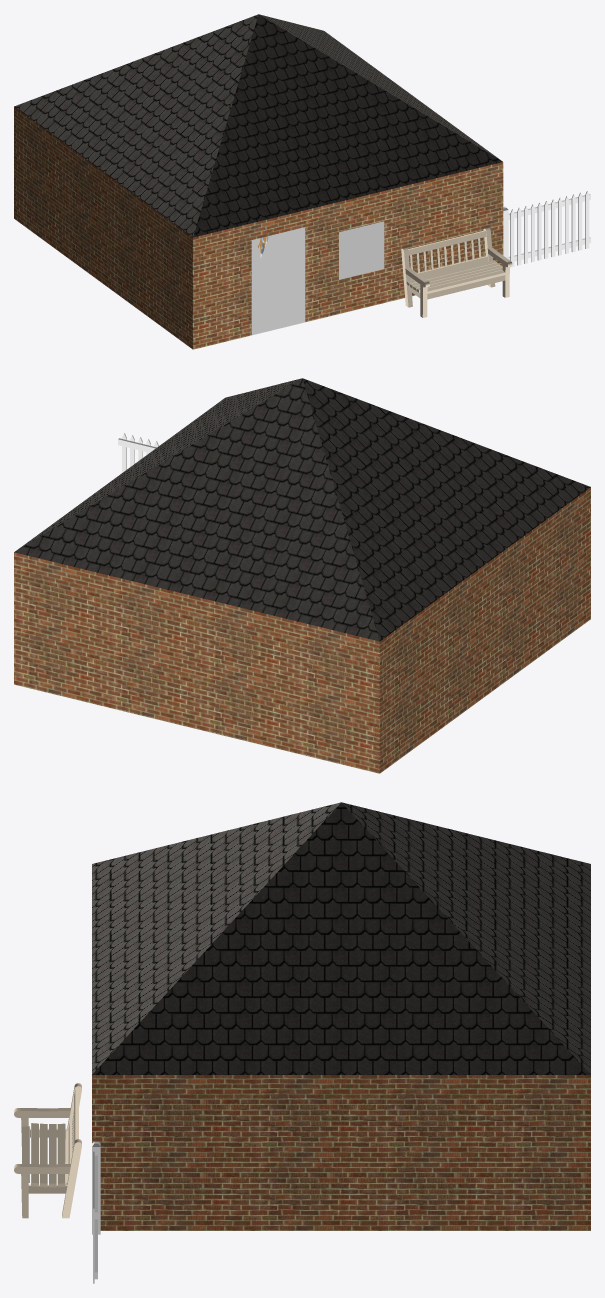
The model's file is House.glb.
3 views of the same model, one above another, from view 1: azimuth 30°, elevation 25°; view 2: azimuth 150°, elevation 25°; view 3: azimuth 270°, elevation 25° (orthographic). The views are drawn at different scales.
Visible parts, largest first — view 1: SketchUp, board_3 (×4), arm (×2); view 2: SketchUp; view 3: SketchUp, arm (×2), board_2.
Boxes of the visible parts, left/top/right/bottom form: SketchUp: left=14, top=14, right=503, bottom=349; board_3 (×4): left=408, top=230, right=505, bottom=299; arm (×2): left=405, top=247, right=512, bottom=317; SketchUp: left=14, top=378, right=590, bottom=773; SketchUp: left=92, top=802, right=590, bottom=1230; arm (×2): left=14, top=1108, right=70, bottom=1218; board_2: left=62, top=1139, right=81, bottom=1218.
Size of the model in its own units: 293 by 163 by 264.
Materials: 20 (2 with a texture image).
